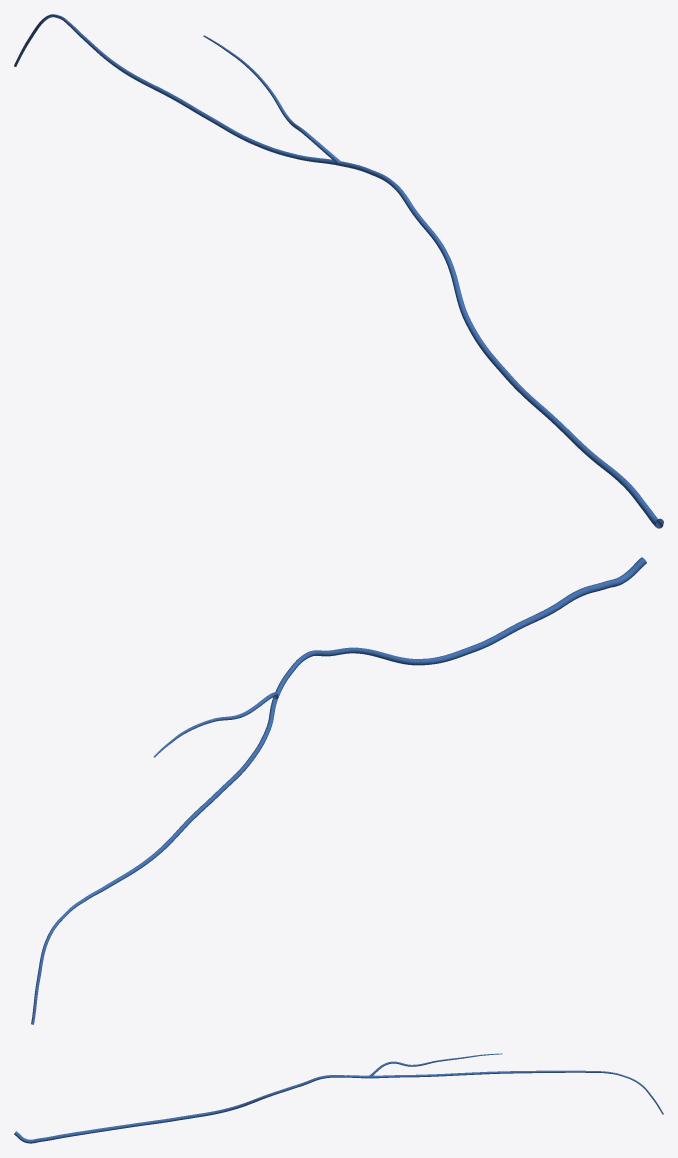
The picture shows the model from 3 angles, top to bottom: view 1: azimuth 30°, elevation 25°; view 2: azimuth 150°, elevation 25°; view 3: azimuth 270°, elevation 25°; orthographic projection. The views are drawn at different scales.
Parts seen in each view (by area): view 1: 右侧大隐静脉; view 2: 右侧大隐静脉; view 3: 右侧大隐静脉.
Part boxes in pixels (<box>): 右侧大隐静脉: <box>14,14,663,528</box>; 右侧大隐静脉: <box>31,557,646,1024</box>; 右侧大隐静脉: <box>14,1053,663,1143</box>.
Size of the model in its own units: 0.0775 by 0.1756 by 1.17.
